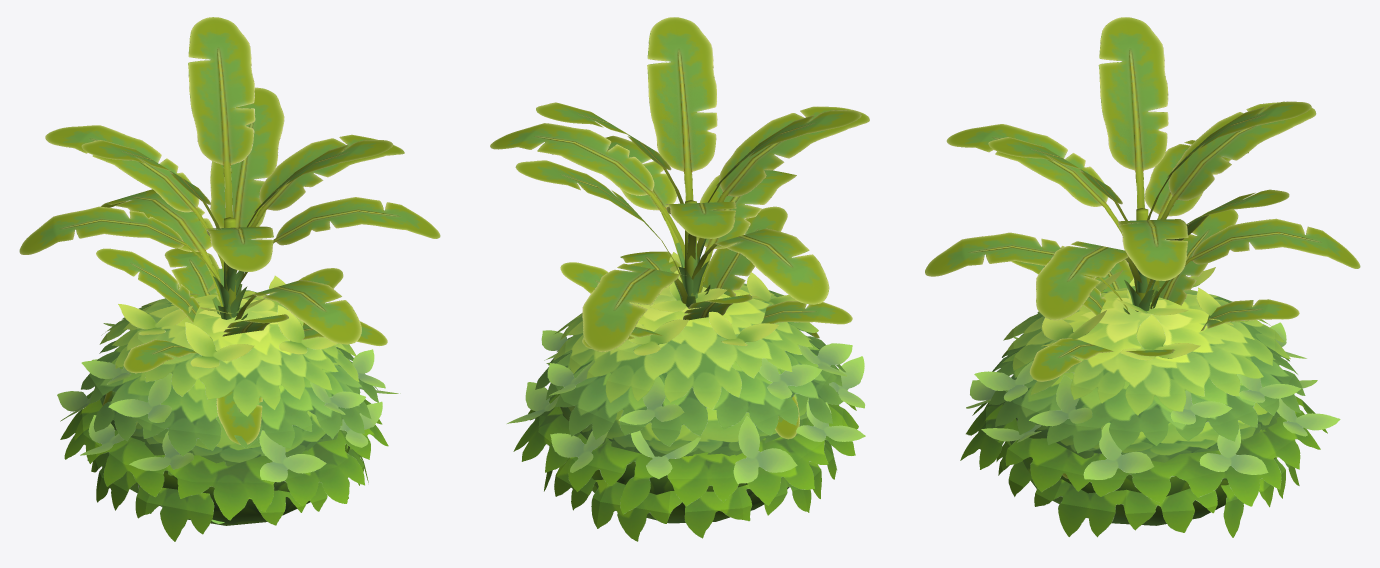
File: Bush_A.fbx
3 views of the same model, side by side, from view 1: azimuth 30°, elevation 25°; view 2: azimuth 150°, elevation 25°; view 3: azimuth 270°, elevation 25° (orthographic). The views are drawn at different scales.
Visible parts, largest first — view 1: Bush_A, Bush_B, Bush_C; view 2: Bush_A, Bush_B, Bush_C; view 3: Bush_A, Bush_B, Bush_C.
Boxes of the visible parts, <box> form: Bush_A: <box>57,275,400,541</box>; Bush_B: <box>19,17,440,344</box>; Bush_C: <box>96,248,387,444</box>; Bush_A: <box>507,252,865,541</box>; Bush_B: <box>490,17,869,352</box>; Bush_C: <box>560,206,852,439</box>; Bush_A: <box>960,267,1340,537</box>; Bush_B: <box>925,17,1360,320</box>; Bush_C: <box>1003,209,1299,479</box>.
Size of the model in its own units: 166 by 175 by 169.
Materials: 1 (1 with a texture image).
